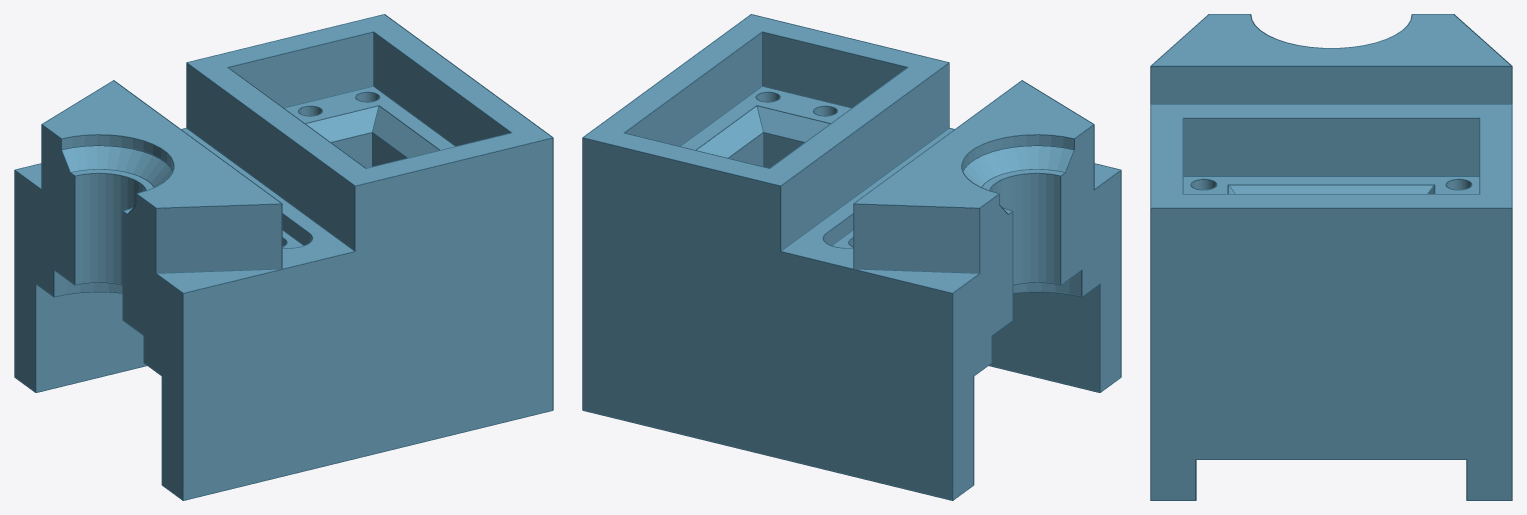
The model's file is section_bb_cad_improved.glb.
3 views of the same model, side by side, from view 1: azimuth 30°, elevation 25°; view 2: azimuth 150°, elevation 25°; view 3: azimuth 270°, elevation 25° (orthographic). The views are drawn at different scales.
Parts seen in each view (by area): view 1: section_bb_blue, navy_edges_crisp; view 2: section_bb_blue, navy_edges_crisp; view 3: section_bb_blue, navy_edges_crisp.
Boxes of the visible parts, x1,y1,x2,y2 form: section_bb_blue: (15,15,552,499); navy_edges_crisp: (14,14,553,500); section_bb_blue: (583,15,1120,499); navy_edges_crisp: (582,14,1121,500); section_bb_blue: (1151,14,1511,499); navy_edges_crisp: (1150,14,1512,500).
Size of the model in its own units: 71.18 by 50.18 by 56.18.
